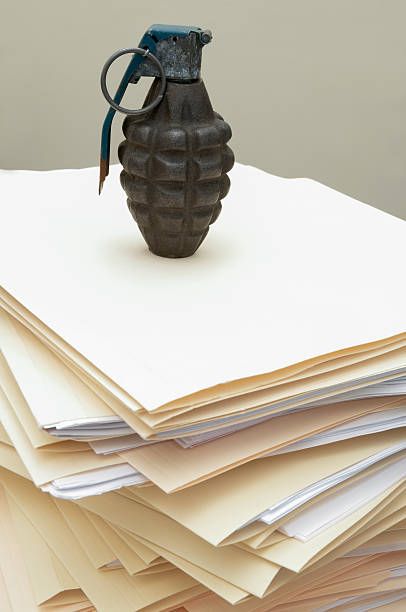e1: (99, 24, 236, 259)
